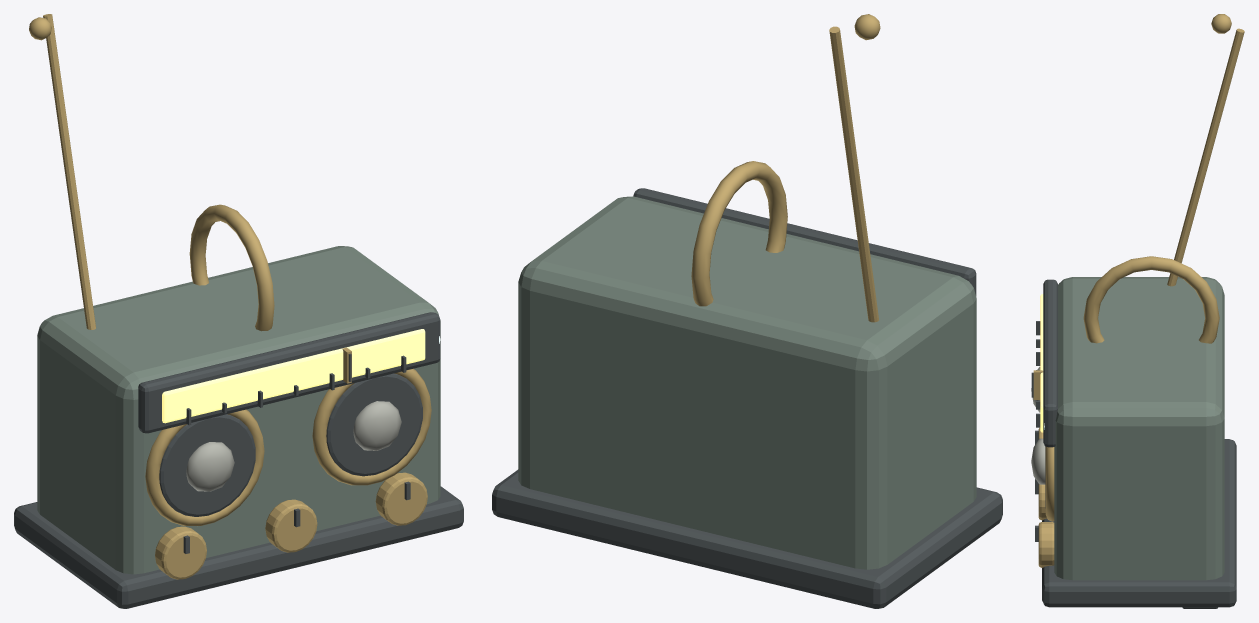
Rendered from radio_station.glb.
3 renders of one model, left to right at view 1: azimuth 30°, elevation 25°; view 2: azimuth 150°, elevation 25°; view 3: azimuth 270°, elevation 25°, orthographic. The views are drawn at different scales.
Visible parts, largest first — view 1: radio-station, knob-1, knob-0, knob-2; view 2: radio-station; view 3: radio-station, knob-2, knob-1.
Part boxes in pixels (<box>): radio-station: <box>14,14,463,608</box>; knob-1: <box>265,499,317,552</box>; knob-0: <box>155,526,206,579</box>; knob-2: <box>375,472,427,525</box>; radio-station: <box>492,14,1002,608</box>; radio-station: <box>1031,14,1244,608</box>; knob-2: <box>1035,522,1054,567</box>; knob-1: <box>1035,478,1046,520</box>.
Bounding box in the file's own units: 0.58 × 0.833 × 0.3511.
